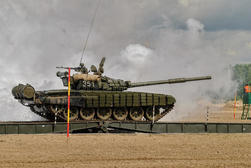t72: (14, 63, 218, 120)
